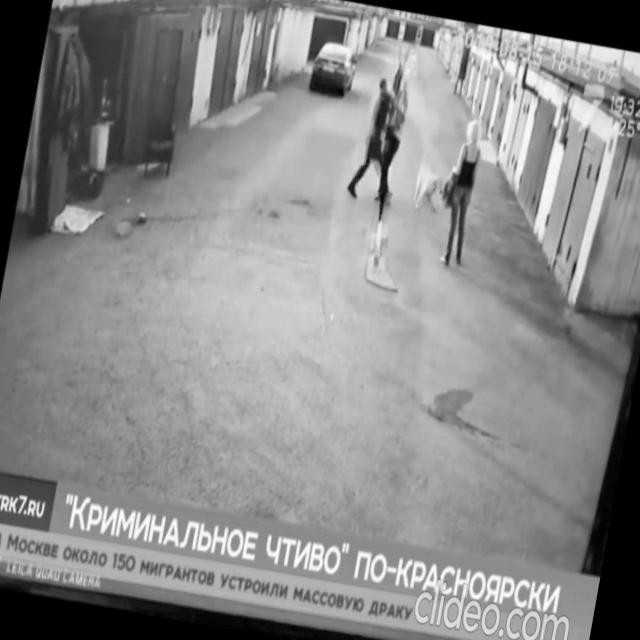gun: (386, 36, 414, 112)
person: (432, 116, 490, 269), (344, 74, 409, 205), (368, 68, 413, 224)
person with a gun: (344, 32, 417, 205)
